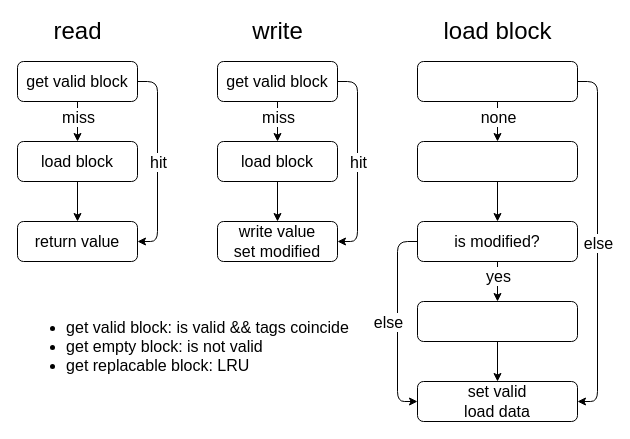
This 630x439 diagram has some shape labels left out. Here are the shapes that lost their labels. From the top down, the box of each, then its label:
(416, 60, 578, 102): get empty block
(416, 140, 578, 182): get replaceable block
(416, 300, 578, 342): write back
